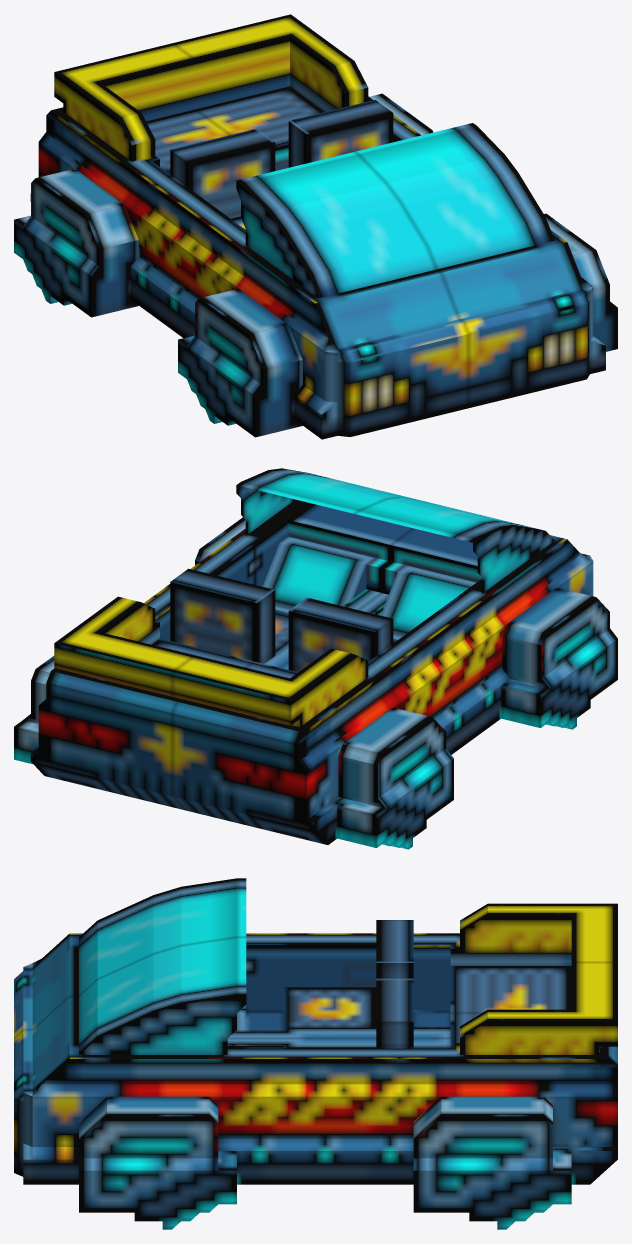
The model's file is cyber_cop_car.fbx.
3 renders of one model, top to bottom at view 1: azimuth 30°, elevation 25°; view 2: azimuth 150°, elevation 25°; view 3: azimuth 270°, elevation 25°, orthographic. The views are drawn at different scales.
Parts seen in each view (by area): view 1: cyber_cop_car; view 2: cyber_cop_car; view 3: cyber_cop_car.
Boxes of the visible parts, bbox=[...] form: cyber_cop_car: bbox=[14, 14, 617, 439]; cyber_cop_car: bbox=[14, 468, 617, 849]; cyber_cop_car: bbox=[14, 878, 617, 1229].
Bounding box in the file's own units: 3.54 × 1.85 × 5.01.
Materials: 2 (2 with a texture image).
